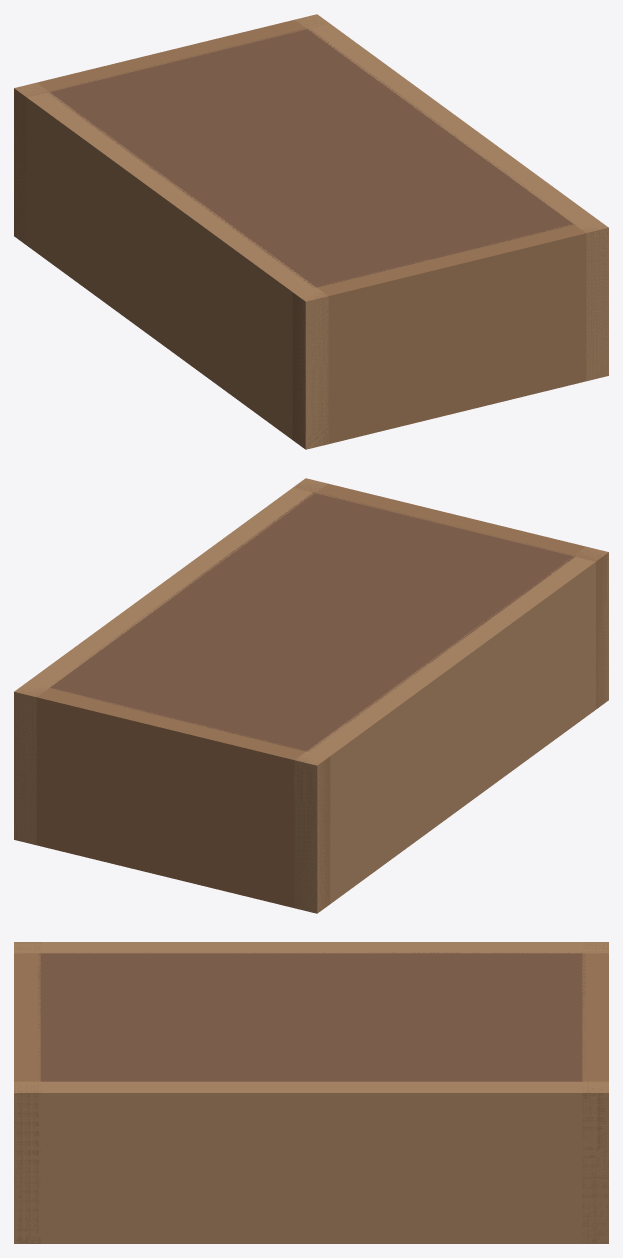
The model's file is 01_open_wooden_wardrobe.glb.
3 views of the same model, one above another, from view 1: azimuth 30°, elevation 25°; view 2: azimuth 150°, elevation 25°; view 3: azimuth 270°, elevation 25° (orthographic).
Parts seen in each view (by area): view 1: back_panel, left_side, top, right_side, base; view 2: back_panel, left_side, base, right_side, top; view 3: right_side, back_panel, left_side, top, base.
Part boxes in pixels (x1,y1,x2,y2): back_panel: (47,28,575,287); left_side: (14,82,328,449); top: (292,224,608,449); right_side: (295,14,608,381); base: (14,15,329,243); back_panel: (50,491,575,751); left_side: (294,546,608,913); base: (14,686,330,912); right_side: (14,478,327,845); top: (293,478,608,708); right_side: (14,1081,608,1243); back_panel: (37,952,585,1081); left_side: (14,942,608,953); top: (14,942,40,1243); base: (582,942,608,1243).
Size of the model in its own units: 1.2 by 0.628 by 2.
